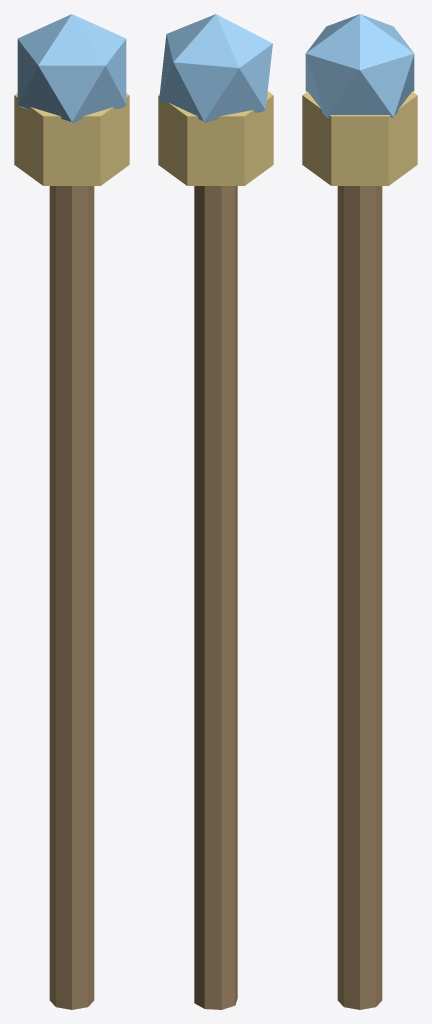
Rendered from staff.glb.
3 views of the same model, side by side, from view 1: azimuth 90°, elevation 25°; view 2: azimuth 150°, elevation 25°; view 3: azimuth 270°, elevation 25° (orthographic).
Visible parts, largest first — view 1: staff; view 2: staff; view 3: staff.
Boxes of the visible parts, <box> form: staff: <box>14,14,129,1009</box>; staff: <box>158,14,273,1009</box>; staff: <box>302,14,417,1009</box>.
Size of the model in its own units: 0.1789 by 1.7 by 0.18.
